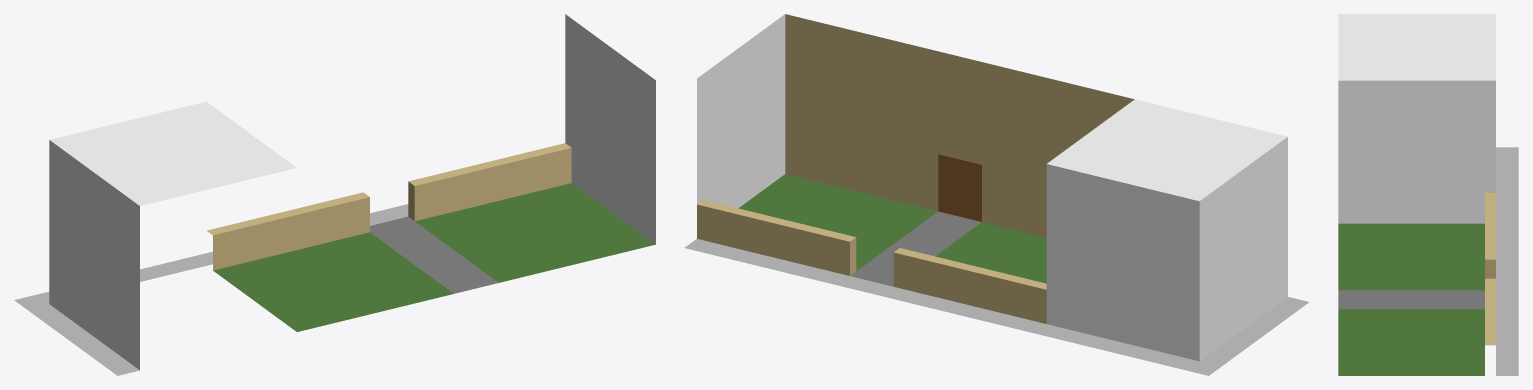
Rendered from museum.glb.
3 views of the same model, side by side, from view 1: azimuth 30°, elevation 25°; view 2: azimuth 150°, elevation 25°; view 3: azimuth 270°, elevation 25° (orthographic). The views are drawn at different scales.
Parts seen in each view (by area): view 1: Buildings, Garden; view 2: Buildings, Garden; view 3: Buildings, Garden.
Boxes of the visible parts, box(x1,y1,x2,y2) form: Buildings: box(14, 14, 655, 375); Garden: box(207, 143, 655, 331); Buildings: box(684, 14, 1309, 375); Garden: box(697, 174, 1046, 323); Buildings: box(1338, 14, 1518, 375); Garden: box(1338, 193, 1495, 375).
Size of the model in its own units: 24 by 7 by 8.
